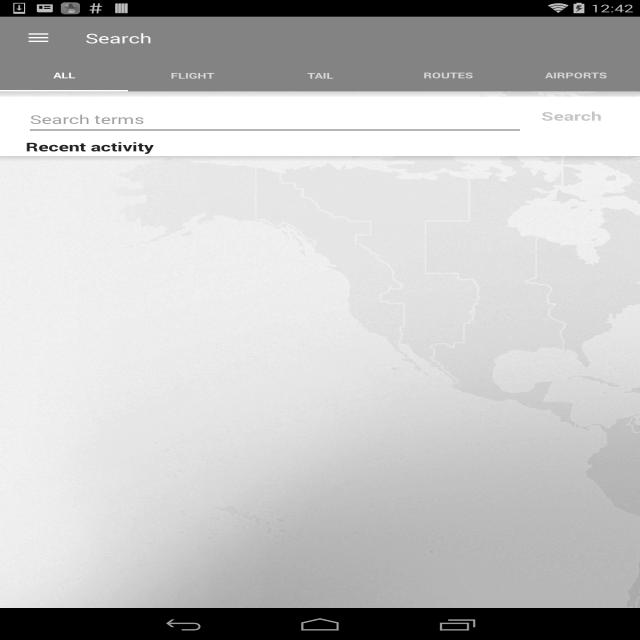Button: (528, 98, 614, 134)
EditText: (26, 105, 524, 136)
ImageButton: (9, 17, 68, 59)
TextView: (26, 137, 614, 156), (0, 59, 128, 92), (128, 59, 256, 92), (256, 59, 384, 92), (384, 59, 512, 92), (512, 59, 640, 92), (85, 29, 152, 47)
